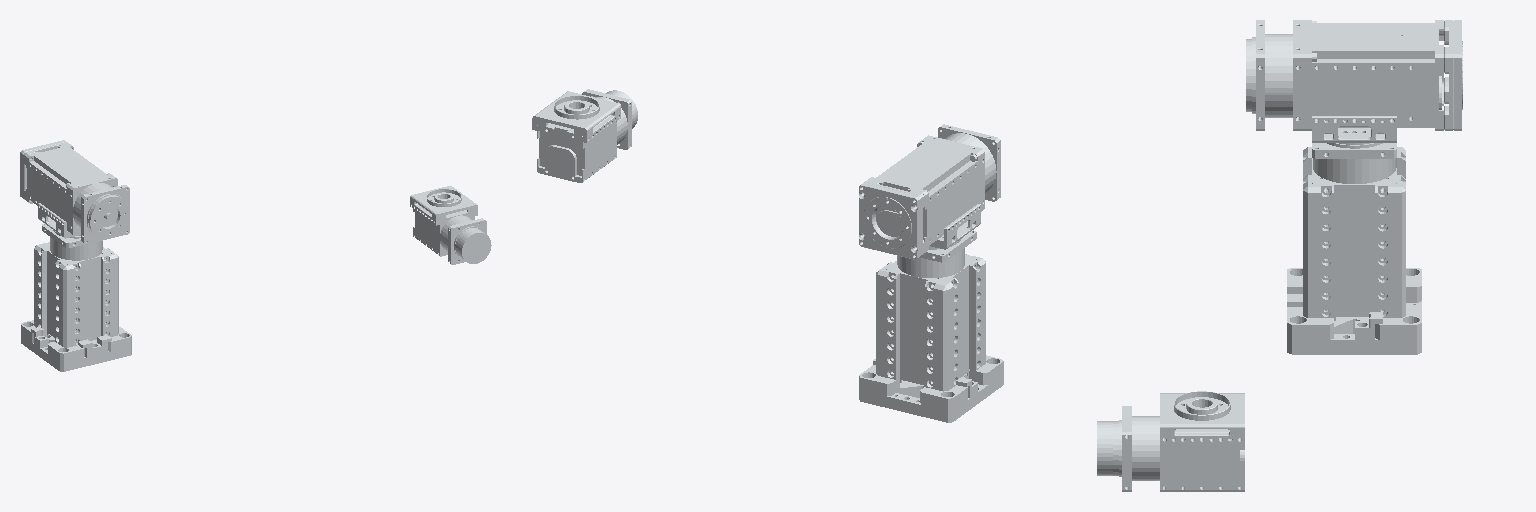
robot.urdf — single_arm_v22_19cm:
<?xml version="1.0" encoding="utf-8"?>
<!-- This URDF was automatically created by SolidWorks to URDF Exporter! Originally created by [author] ([email redacted]) 
     Commit Version: 1.6.0-4-g7f85cfe  Build Version: 1.6.7995.38578
     For more information, please see http://wiki.ros.org/sw_urdf_exporter -->
<robot
  name="single_arm_v22_19cm">
  <link
    name="base_link">
    <inertial>
      <origin
        xyz="-0.00010098 -0.00035109 0.054127"
        rpy="0 0 0" />
      <mass
        value="2.94316" />
      <inertia
        ixx="0.00082016"
        ixy="3.555E-10"
        ixz="-4.1821E-06"
        iyy="0.00081979"
        iyz="-1.4527E-07"
        izz="0.00035328" />
    </inertial>
    <visual>
      <origin
        xyz="0 0 0"
        rpy="0 0 0" />
      <geometry>
        <mesh
          filename="package://single_arm_v22_19cm/meshes/base_link.STL" />
      </geometry>
      <material
        name="">
        <color
          rgba="0.89804 0.91765 0.92941 1" />
      </material>
    </visual>
    <collision>
      <origin
        xyz="0 0 0"
        rpy="0 0 0" />
      <geometry>
        <mesh
          filename="package://single_arm_v22_19cm/meshes/base_link.STL" />
      </geometry>
    </collision>
  </link>
  <link
    name="link1">
    <inertial>
      <origin
        xyz="3.305E-06 0.0036146 0.029085"
        rpy="0 0 0" />
      <mass
        value="0.93428" />
      <inertia
        ixx="0.00048112"
        ixy="-7.0827E-08"
        ixz="-3.5566E-10"
        iyy="0.00018986"
        iyz="4.1821E-06"
        izz="0.0004948" />
    </inertial>
    <visual>
      <origin
        xyz="0 0 0"
        rpy="0 0 0" />
      <geometry>
        <mesh
          filename="package://single_arm_v22_19cm/meshes/link1.STL" />
      </geometry>
      <material
        name="">
        <color
          rgba="0.89804 0.91765 0.92941 1" />
      </material>
    </visual>
    <collision>
      <origin
        xyz="0 0 0"
        rpy="0 0 0" />
      <geometry>
        <mesh
          filename="package://single_arm_v22_19cm/meshes/link1.STL" />
      </geometry>
    </collision>
  </link>
  <joint
    name="joint1"
    type="revolute">
    <origin
      xyz="0 0 0.1445"
      rpy="0 0 0" />
    <parent
      link="base_link" />
    <child
      link="link1" />
    <axis
      xyz="0 0 1" />
    <limit
      lower="-3.14"
      upper="3.14"
      effort="0"
      velocity="0" />
  </joint>
  <link
    name="link2">
    <inertial>
      <origin
        xyz="0.13085 2.3588E-07 0.0069014"
        rpy="0 0 0" />
      <mass
        value="1.07602" />
      <inertia
        ixx="0.00052683"
        ixy="-1.872E-12"
        ixz="3.6733E-07"
        iyy="0.00061287"
        iyz="-4.2672E-10"
        izz="0.00035484" />
    </inertial>
    <visual>
      <origin
        xyz="0 0 0"
        rpy="0 0 0" />
      <geometry>
        <mesh
          filename="package://single_arm_v22_19cm/meshes/link2.STL" />
      </geometry>
      <material
        name="">
        <color
          rgba="0.89804 0.91765 0.92941 1" />
      </material>
    </visual>
    <collision>
      <origin
        xyz="0 0 0"
        rpy="0 0 0" />
      <geometry>
        <mesh
          filename="package://single_arm_v22_19cm/meshes/link2.STL" />
      </geometry>
    </collision>
  </link>
  <joint
    name="joint2"
    type="revolute">
    <origin
      xyz="0 -0.0685 0.0315"
      rpy="1.5708 0 0" />
    <parent
      link="link1" />
    <child
      link="link2" />
    <axis
      xyz="0 0 1" />
    <limit
      lower="-3.14"
      upper="3.14"
      effort="0"
      velocity="0" />
  </joint>
  <link
    name="link3">
    <inertial>
      <origin
        xyz="0.12526 2.0553E-07 -0.0051296"
        rpy="0 0 0" />
      <mass
        value="1.00039" />
      <inertia
        ixx="0.00046554"
        ixy="-1.0231E-11"
        ixz="-1.2577E-06"
        iyy="0.00056731"
        iyz="-9.0438E-10"
        izz="0.00033638" />
    </inertial>
    <visual>
      <origin
        xyz="0 0 0"
        rpy="0 0 0" />
      <geometry>
        <mesh
          filename="package://single_arm_v22_19cm/meshes/link3.STL" />
      </geometry>
      <material
        name="">
        <color
          rgba="0.89804 0.91765 0.92941 1" />
      </material>
    </visual>
    <collision>
      <origin
        xyz="0 0 0"
        rpy="0 0 0" />
      <geometry>
        <mesh
          filename="package://single_arm_v22_19cm/meshes/link3.STL" />
      </geometry>
    </collision>
  </link>
  <joint
    name="joint3"
    type="revolute">
    <origin
      xyz="0.19 0 -0.0390000000000001"
      rpy="0 0 0" />
    <parent
      link="link2" />
    <child
      link="link3" />
    <axis
      xyz="0 0 -1" />
    <limit
      lower="-3.14"
      upper="3.14"
      effort="0"
      velocity="0" />
  </joint>
  <link
    name="link4">
    <inertial>
      <origin
        xyz="2.2204E-16 0.01039 0.02404"
        rpy="0 0 0" />
      <mass
        value="0.36924" />
      <inertia
        ixx="9.4187E-05"
        ixy="1.2869E-19"
        ixz="-1.4501E-16"
        iyy="4.476E-05"
        iyz="5.3346E-07"
        izz="0.0001027" />
    </inertial>
    <visual>
      <origin
        xyz="0 0 0"
        rpy="0 0 0" />
      <geometry>
        <mesh
          filename="package://single_arm_v22_19cm/meshes/link4.STL" />
      </geometry>
      <material
        name="">
        <color
          rgba="0.89804 0.91765 0.92941 1" />
      </material>
    </visual>
    <collision>
      <origin
        xyz="0 0 0"
        rpy="0 0 0" />
      <geometry>
        <mesh
          filename="package://single_arm_v22_19cm/meshes/link4.STL" />
      </geometry>
    </collision>
  </link>
  <joint
    name="joint4"
    type="revolute">
    <origin
      xyz="0.19 0 0.0390000000000083"
      rpy="0 0 -3.14159265358979" />
    <parent
      link="link3" />
    <child
      link="link4" />
    <axis
      xyz="0 0 1" />
    <limit
      lower="-3.14"
      upper="3.14"
      effort="0"
      velocity="0" />
  </joint>
  <link
    name="link5">
    <inertial>
      <origin
        xyz="0.028614 0.010457 -3.3307E-16"
        rpy="0 0 0" />
      <mass
        value="0.36821" />
      <inertia
        ixx="0.00010133"
        ixy="5.3346E-07"
        ixz="1.4501E-16"
        iyy="4.3878E-05"
        iyz="-8.1817E-20"
        izz="9.3658E-05" />
    </inertial>
    <visual>
      <origin
        xyz="0 0 0"
        rpy="0 0 0" />
      <geometry>
        <mesh
          filename="package://single_arm_v22_19cm/meshes/link5.STL" />
      </geometry>
      <material
        name="">
        <color
          rgba="0.89804 0.91765 0.92941 1" />
      </material>
    </visual>
    <collision>
      <origin
        xyz="0 0 0"
        rpy="0 0 0" />
      <geometry>
        <mesh
          filename="package://single_arm_v22_19cm/meshes/link5.STL" />
      </geometry>
    </collision>
  </link>
  <joint
    name="joint5"
    type="revolute">
    <origin
      xyz="0 0.052 0.0286"
      rpy="1.5707963267949 0 1.5707963267949" />
    <parent
      link="link4" />
    <child
      link="link5" />
    <axis
      xyz="1 0 0" />
    <limit
      lower="-3.14"
      upper="3.14"
      effort="0"
      velocity="0" />
  </joint>
  <link
    name="link6">
    <inertial>
      <origin
        xyz="-4.44089209850063E-16 5.37938091366846E-07 -0.00700006055550936"
        rpy="0 0 0" />
      <mass
        value="0.0259770442543706" />
      <inertia
        ixx="2.20534281951167E-06"
        ixy="1.78671012311437E-22"
        ixz="-8.79317315621994E-22"
        iyy="2.20534281951168E-06"
        iyz="2.32583060538047E-20"
        izz="3.9777349014505E-06" />
    </inertial>
    <visual>
      <origin
        xyz="0 0 0"
        rpy="0 0 0" />
      <geometry>
        <mesh
          filename="package://single_arm_v22_19cm/meshes/link6.STL" />
      </geometry>
      <material
        name="">
        <color
          rgba="0.898039215686275 0.917647058823529 0.929411764705882 1" />
      </material>
    </visual>
    <collision>
      <origin
        xyz="0 0 0"
        rpy="0 0 0" />
      <geometry>
        <mesh
          filename="package://single_arm_v22_19cm/meshes/link6.STL" />
      </geometry>
    </collision>
  </link>
  <joint
    name="joint6"
    type="revolute">
    <origin
      xyz="0.0330005379381037 0.0549999394444907 0"
      rpy="1.57079632679488 -1.5707963267949 0" />
    <parent
      link="link5" />
    <child
      link="link6" />
    <axis
      xyz="0 0 1" />
    <limit
      lower="-3.14"
      upper="3.14"
      effort="0"
      velocity="0" />
  </joint>
</robot>

--- Render facts (derived) ---
3 views of the same robot in one strip: view 1: azimuth 30°, elevation 25°; view 2: azimuth 150°, elevation 25°; view 3: azimuth 270°, elevation 25° (orthographic).
Robot: single_arm_v22_19cm — 7 links, 6 joints (6 revolute); root link base_link; default pose: all joints at 0.
Links seen in each view (by area): view 1: base_link, link1, link5, link6; view 2: base_link, link1, link5; view 3: base_link, link1, link5, link6.
Link boxes in pixels (box(x1,y1,x2,y2)): base_link: box(21, 223, 131, 371); link1: box(20, 140, 129, 244); link5: box(410, 186, 486, 264); link6: box(457, 229, 491, 263); base_link: box(859, 230, 1003, 422); link1: box(859, 124, 1000, 259); link5: box(532, 89, 631, 182); base_link: box(1287, 143, 1421, 354); link1: box(1246, 20, 1462, 142); link5: box(1113, 391, 1244, 491); link6: box(1097, 421, 1112, 475).
Size in the robot's own frame: 0.448 by 0.2331 by 0.203 metres.
4 mesh visuals loaded from 7 distinct referenced files (4 binary STL); not drawn: 3 (reference not matched to a file when rendering).